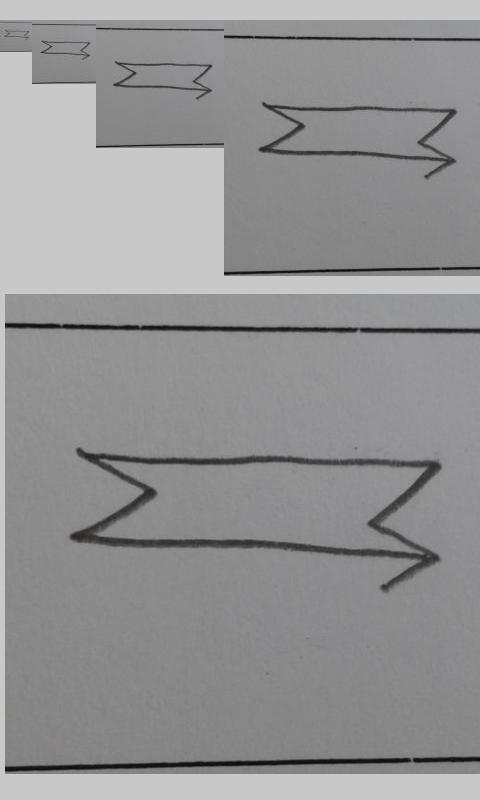edit_text: (69, 445, 440, 567), (257, 101, 456, 162), (112, 61, 214, 93), (40, 40, 90, 56), (4, 29, 30, 38)
